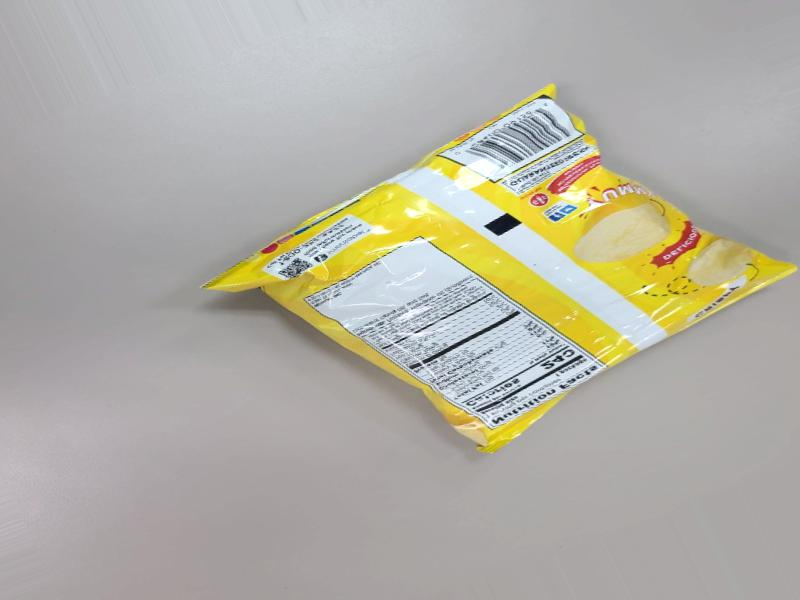lays: (306, 65, 792, 415)
